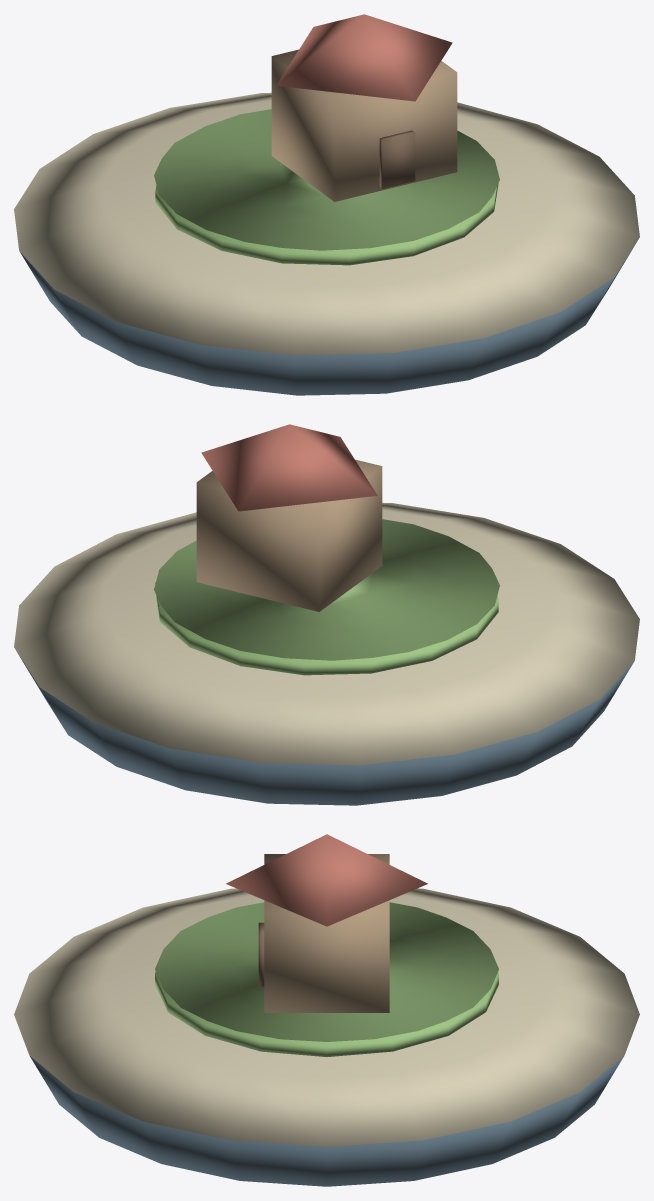
Rendered from terrain_island_15.glb.
3 views of the same model, one above another, from view 1: azimuth 30°, elevation 25°; view 2: azimuth 150°, elevation 25°; view 3: azimuth 270°, elevation 25° (orthographic).
Visible parts, largest first — view 1: island_sand, island_grass_dome, island_base, hut_body, hut_roof, island_grass_base, hut_door; view 2: island_sand, island_grass_dome, island_base, hut_body, hut_roof, island_grass_base; view 3: island_sand, island_grass_dome, island_base, hut_body, hut_roof, island_grass_base.
Part boxes in pixels (x1,y1,x2,y2): island_sand: (14, 92, 639, 355); island_grass_dome: (154, 109, 499, 250); island_base: (20, 242, 636, 395); hut_body: (271, 49, 457, 201); hut_roof: (276, 14, 452, 101); island_grass_base: (155, 172, 498, 265); hut_door: (379, 130, 415, 188); island_sand: (14, 502, 639, 765); island_grass_dome: (154, 519, 499, 660); island_base: (17, 652, 633, 805); hut_body: (196, 459, 382, 611); hut_roof: (201, 424, 377, 511); island_grass_base: (155, 582, 498, 675); island_sand: (14, 888, 639, 1146); island_grass_dome: (155, 902, 498, 1041); island_base: (30, 1056, 623, 1186); hut_body: (264, 854, 389, 1012); hut_roof: (226, 834, 427, 926); island_grass_base: (155, 972, 498, 1056).
Size of the model in its own units: 3.2 by 1.42 by 3.2.
